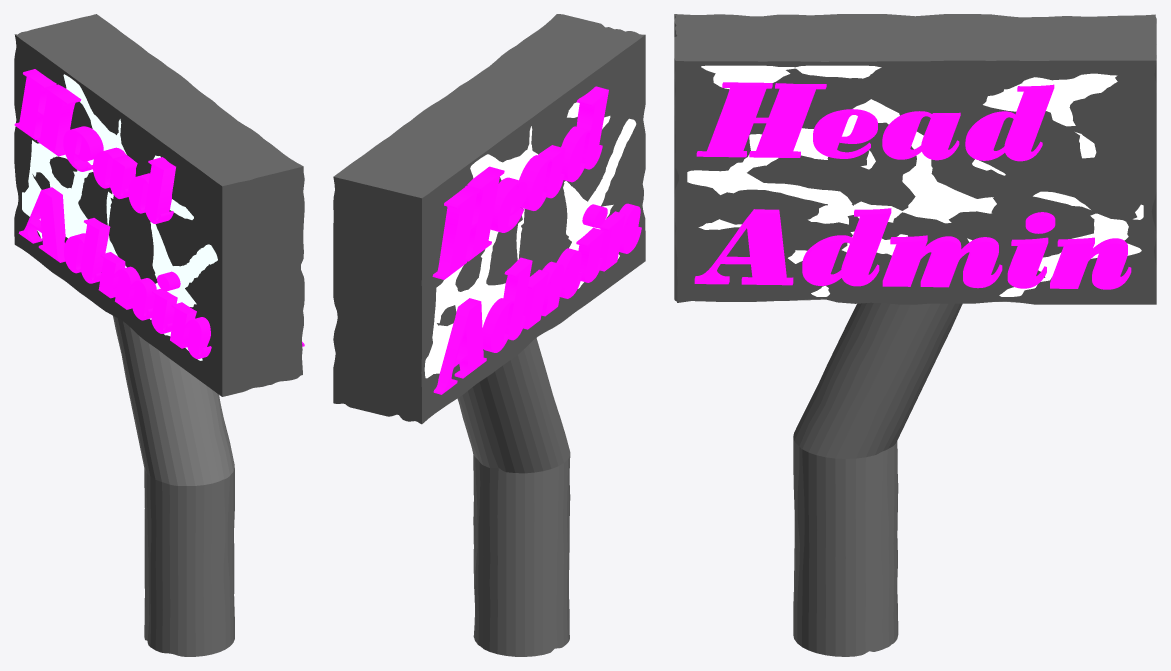
Rendered from head_admin_sing_for_pp.fbx.
3 renders of one model, left to right at view 1: azimuth 30°, elevation 25°; view 2: azimuth 150°, elevation 25°; view 3: azimuth 270°, elevation 25°, orthographic. The views are drawn at different scales.
Parts seen in each view (by area): view 1: Cube, Cylinder, Text.001, Cube.001; view 2: Cube, Cylinder, Text.001, Cube.001; view 3: Cube, Cylinder, Text, Cube.001.
Boxes of the visible parts, x1,y1,x2,y2 form: Cube: (14,14,304,396); Cylinder: (113,316,234,656); Text.001: (14,69,211,359); Cube.001: (22,74,217,360); Cube: (333,14,645,424); Cylinder: (457,338,570,656); Text.001: (432,86,641,394); Cube.001: (424,102,636,378); Cube: (674,14,1156,304); Cylinder: (793,302,962,656); Text: (694,82,1131,289); Cube.001: (687,65,1143,296).
Size of the model in its own units: 264 by 1254 by 917.
